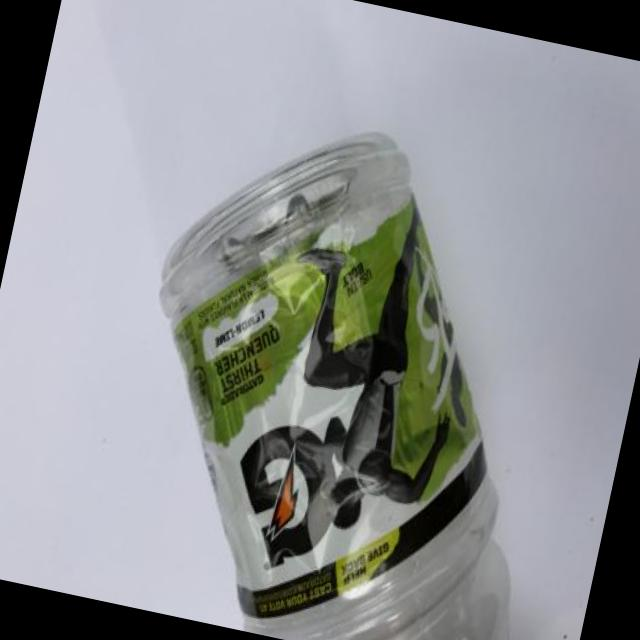Trash: (88, 104, 620, 640)
